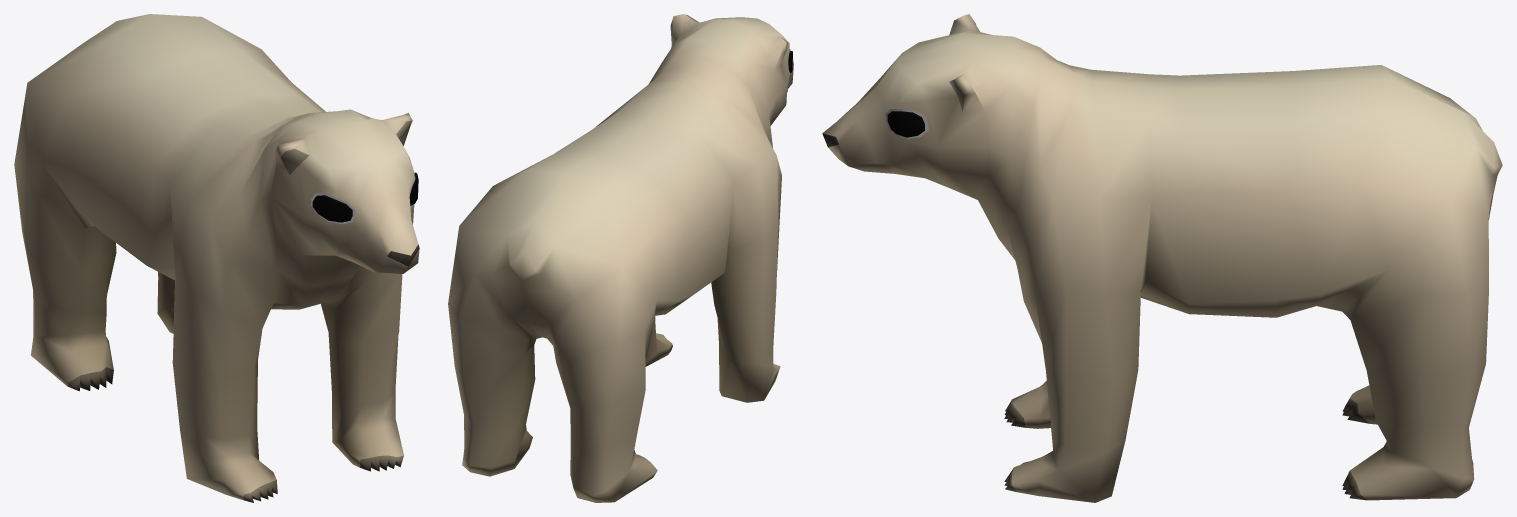
The picture shows the model from 3 angles, left to right: view 1: azimuth 30°, elevation 25°; view 2: azimuth 150°, elevation 25°; view 3: azimuth 270°, elevation 25°; orthographic projection. The views are drawn at different scales.
Parts seen in each view (by area): view 1: base.087; view 2: base.087; view 3: base.087.
Part boxes in pixels (<box>): base.087: <box>14,14,419,502</box>; base.087: <box>448,14,793,502</box>; base.087: <box>822,14,1502,502</box>.
Bounding box in the file's own units: 0.2032 × 0.3322 × 0.5.
